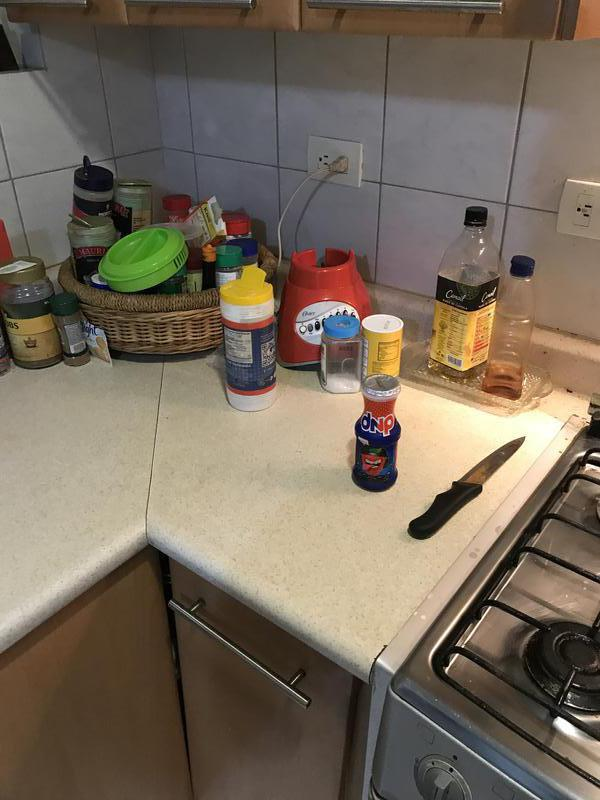danup: (354, 373, 401, 490)
